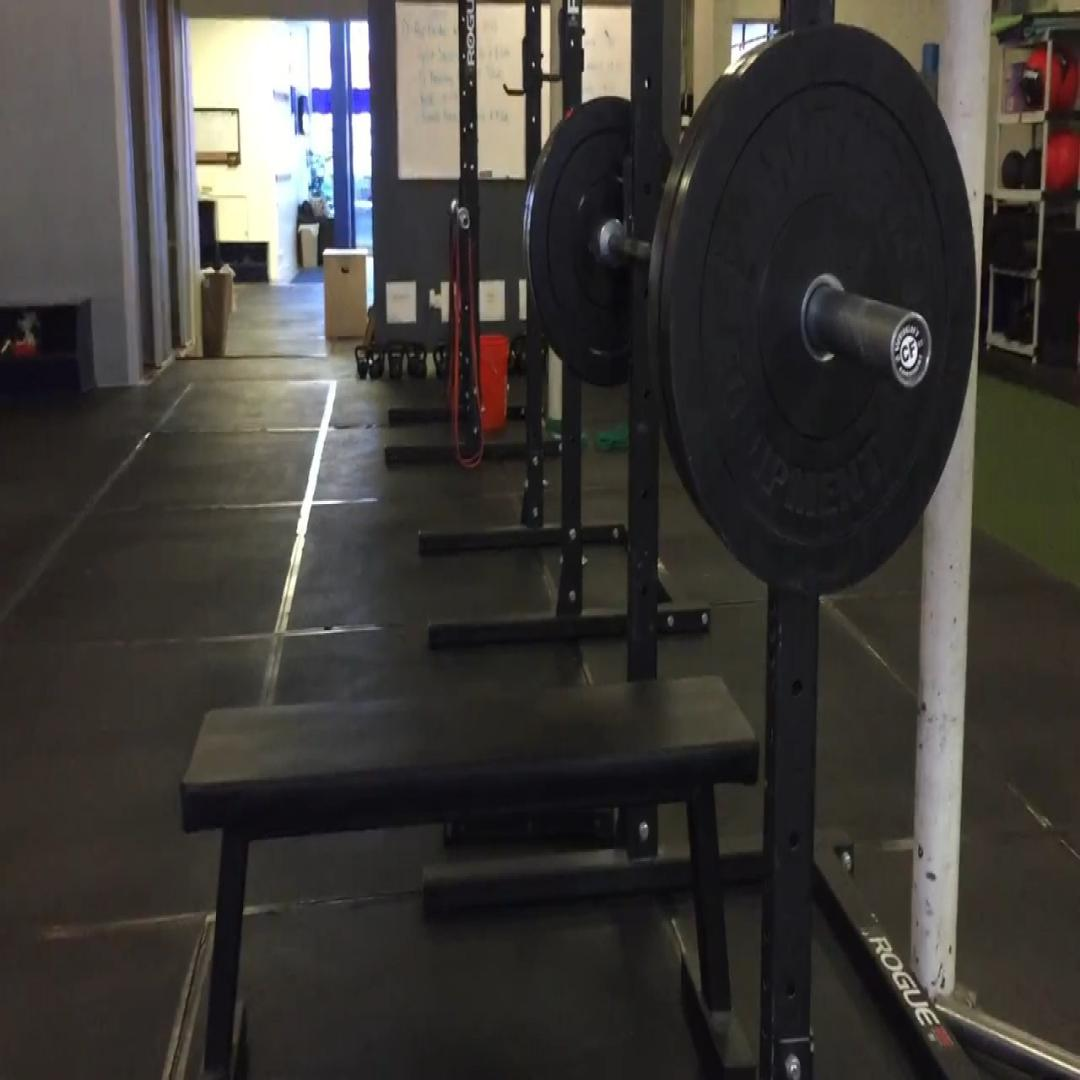Bar: (891, 312, 931, 388)
Barbell: (668, 25, 976, 598)
